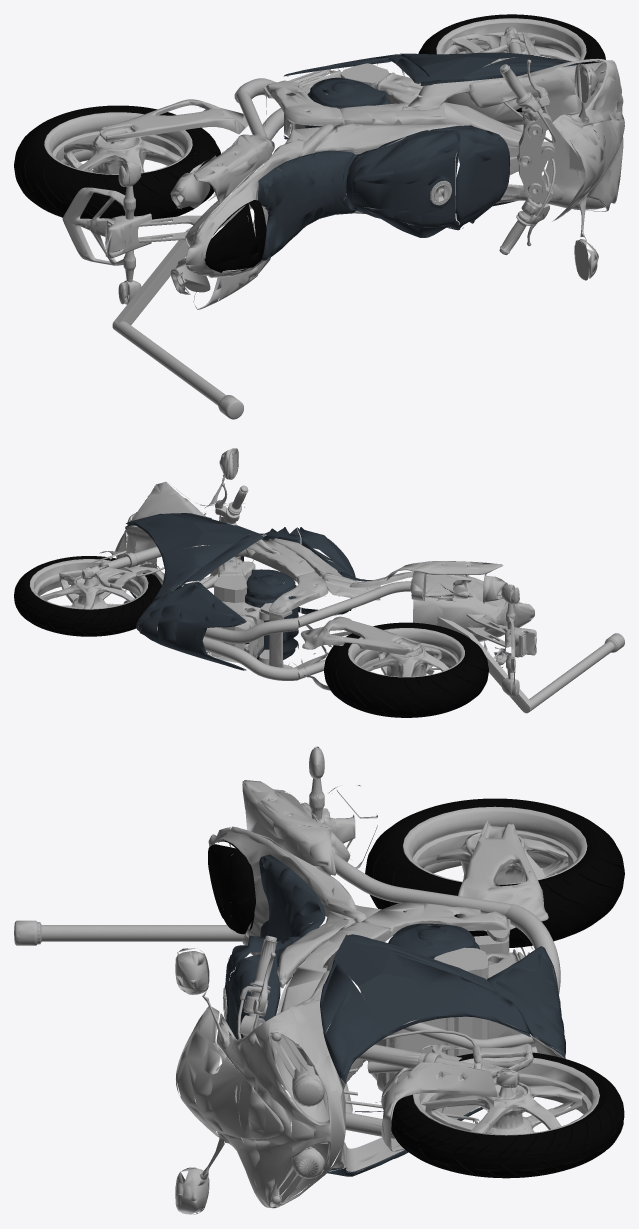
File: motuoche.glb
3 views of the same model, one above another, from view 1: azimuth 30°, elevation 25°; view 2: azimuth 150°, elevation 25°; view 3: azimuth 270°, elevation 25° (orthographic). The views are drawn at different scales.
Parts seen in each view (by area): view 1: Archmodels_93_012_013; view 2: Archmodels_93_012_013; view 3: Archmodels_93_012_013.
Boxes of the visible parts, x1=… form: Archmodels_93_012_013: x1=14, y1=14, x2=624, y2=419; Archmodels_93_012_013: x1=14, y1=448, x2=624, y2=717; Archmodels_93_012_013: x1=14, y1=746, x2=624, y2=1214.
Size of the model in its own units: 2.89 by 1.02 by 2.14.
7 materials, 7 textured.
